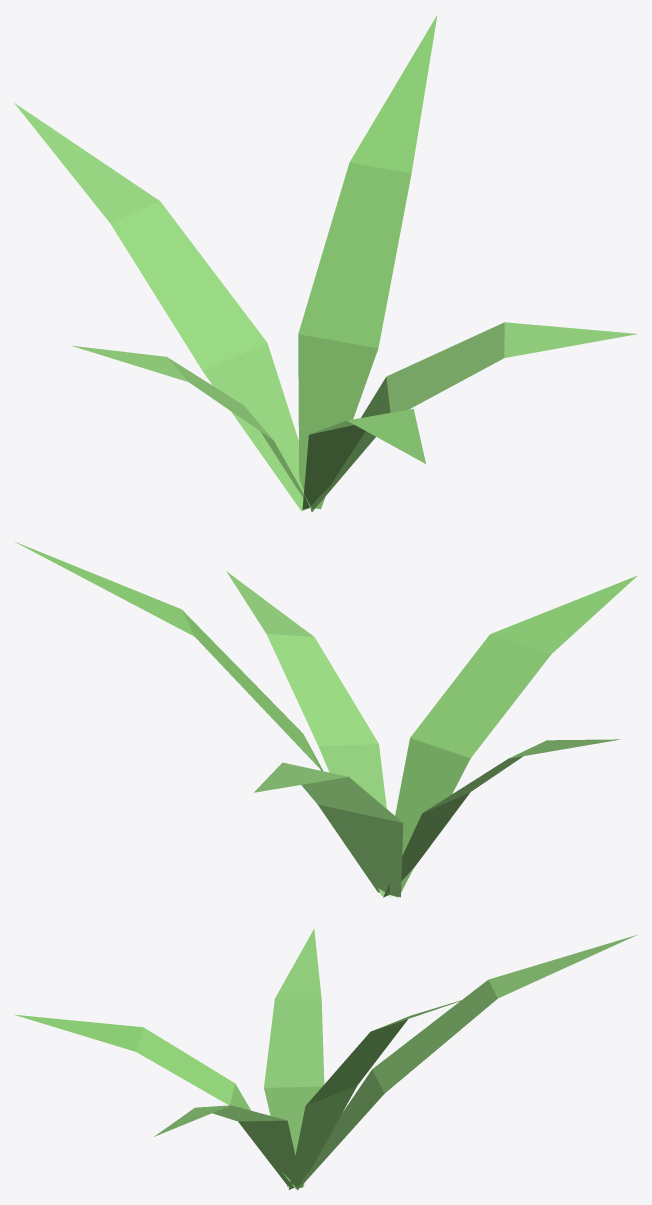
File: Plant_e_TwoS_05.fbx
3 renders of one model, top to bottom at view 1: azimuth 30°, elevation 25°; view 2: azimuth 150°, elevation 25°; view 3: azimuth 270°, elevation 25°, orthographic. The views are drawn at different scales.
Parts seen in each view (by area): view 1: Plant_e_TwoS_05; view 2: Plant_e_TwoS_05; view 3: Plant_e_TwoS_05.
Part boxes in pixels (<box>): Plant_e_TwoS_05: <box>14,15,636,511</box>; Plant_e_TwoS_05: <box>15,542,637,897</box>; Plant_e_TwoS_05: <box>14,929,637,1190</box>.
Size of the model in its own units: 60.41 by 43.76 by 86.29.
